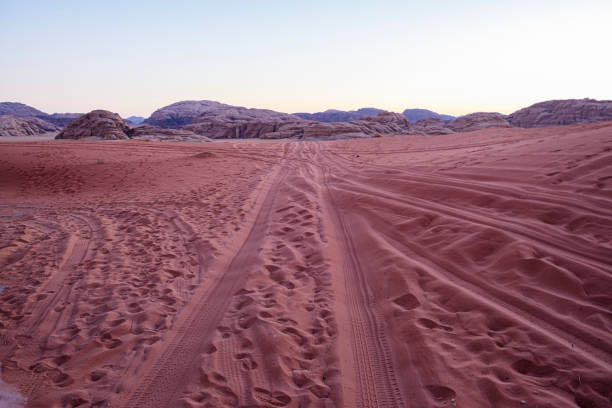vehicle_track: (180, 144, 349, 406), (112, 165, 283, 407), (377, 228, 611, 366), (334, 176, 608, 272), (311, 143, 404, 407), (338, 179, 608, 266), (323, 150, 611, 218), (0, 214, 93, 397), (15, 233, 88, 336)
